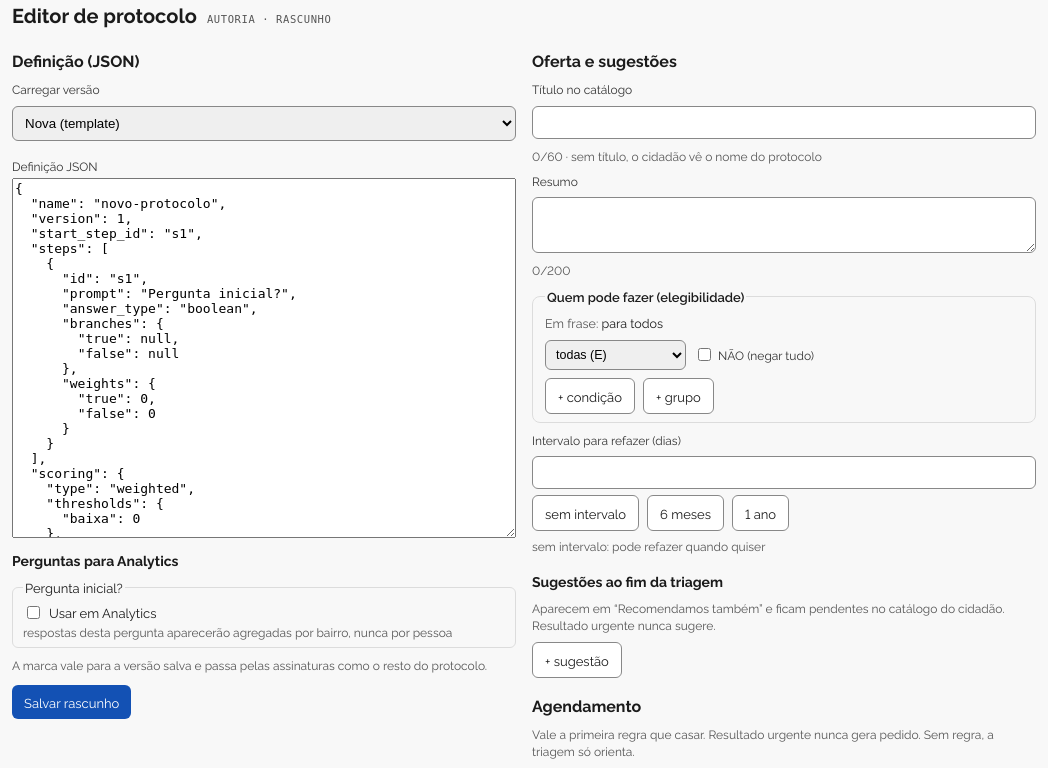
Test: ProtocolEditor — acolhimento (módulo 18) › o modelo de acolhimento troca a coluna pelas regras de cor e o simulador
Expected: the heading "Oferta e sugestões" is shown, [532,49,677,71]
Select "Novo acolhimento (modelo)" in the dropdown labelled "Carregar versão" at (264, 123), box [12,106,516,141]
(page scrolled)
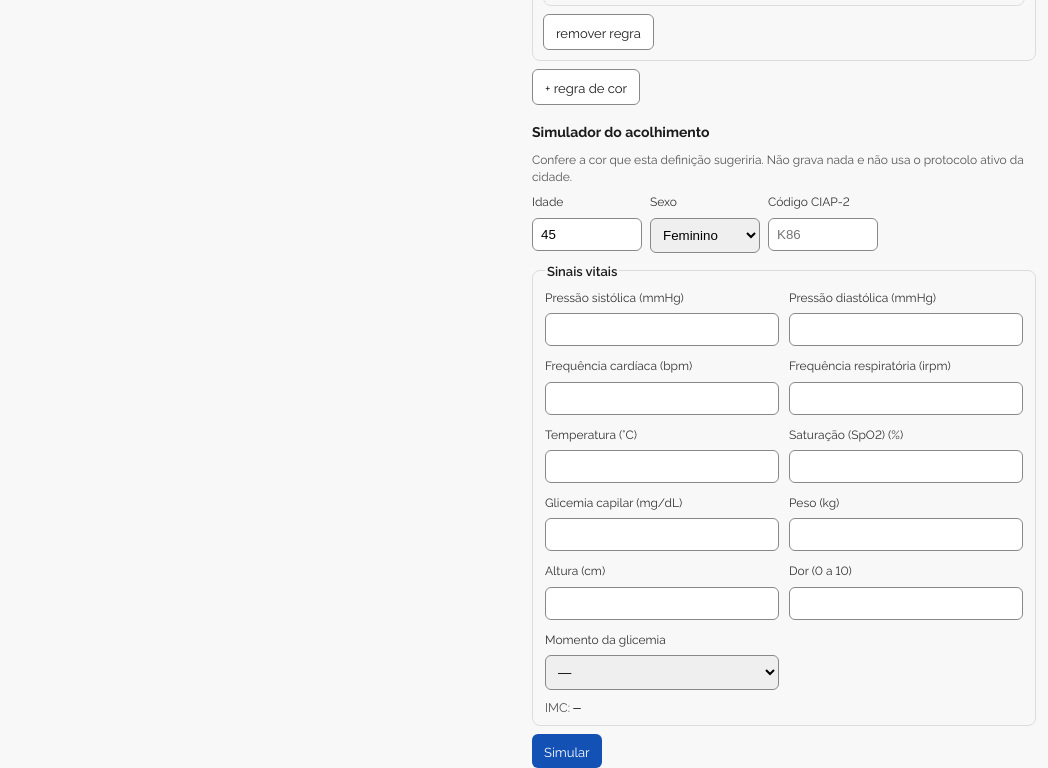
Now the element "Simulador do acolhimento" is shown, box [532,121,1036,767]
Now the heading "Oferta e sugestões" is gone
Now the heading "Agendamento" is gone
